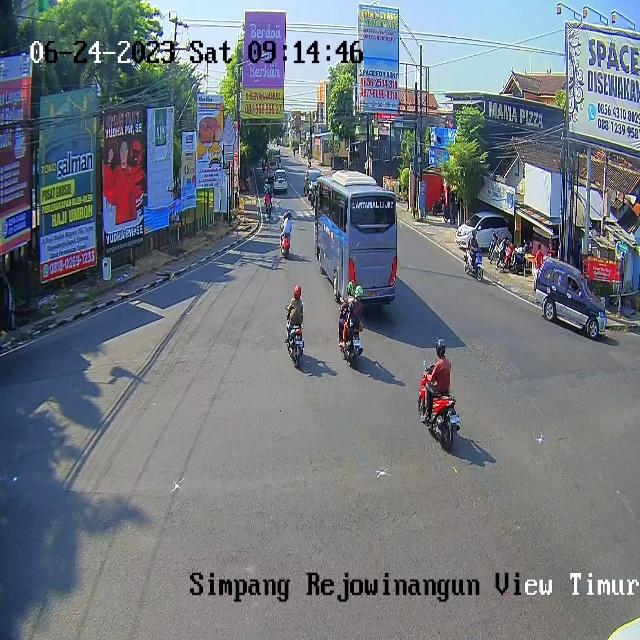bus: (418, 364, 460, 451), (346, 327, 363, 368), (464, 246, 482, 283), (290, 325, 302, 368), (280, 235, 290, 258), (265, 202, 271, 225)
car: (314, 170, 395, 306)
motorcycle: (533, 257, 606, 339), (456, 212, 514, 250), (304, 169, 322, 195), (274, 170, 288, 192), (267, 158, 279, 179)
